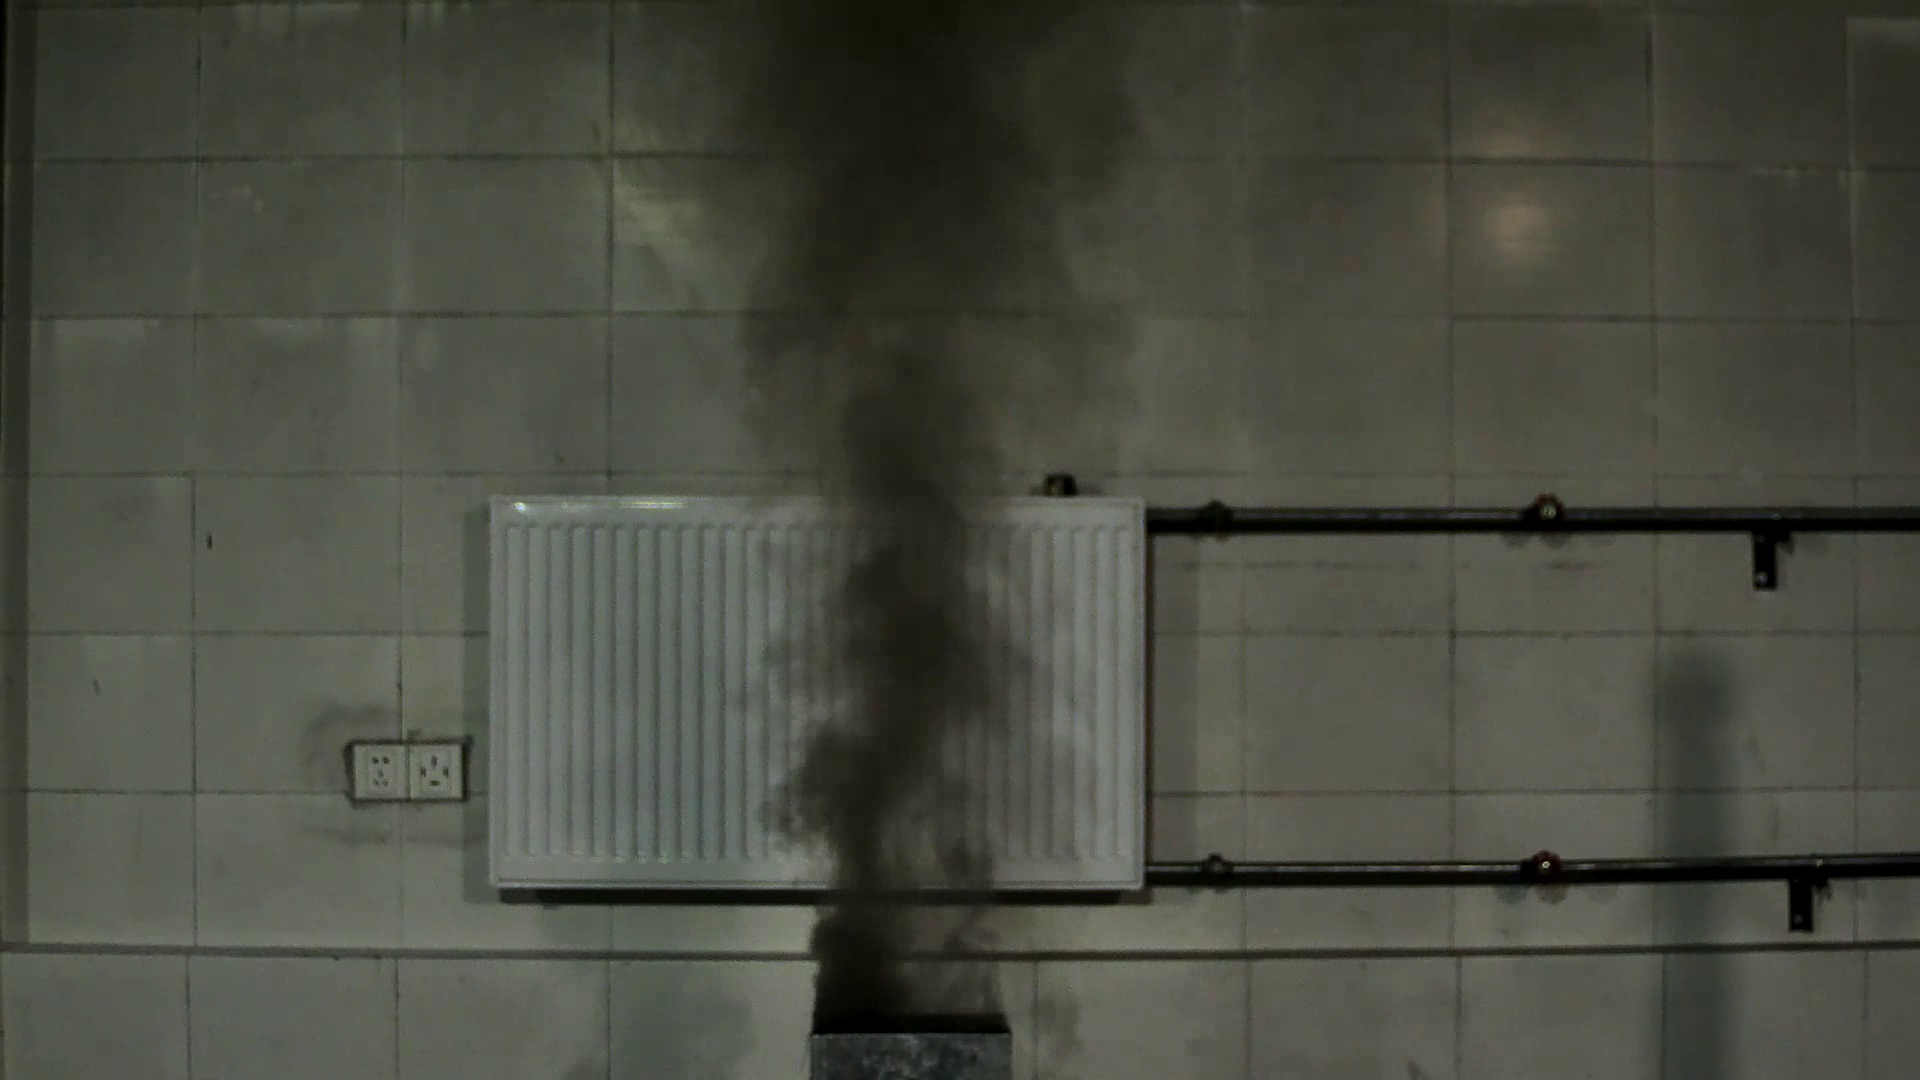smoke: (756, 146, 1081, 1022)
